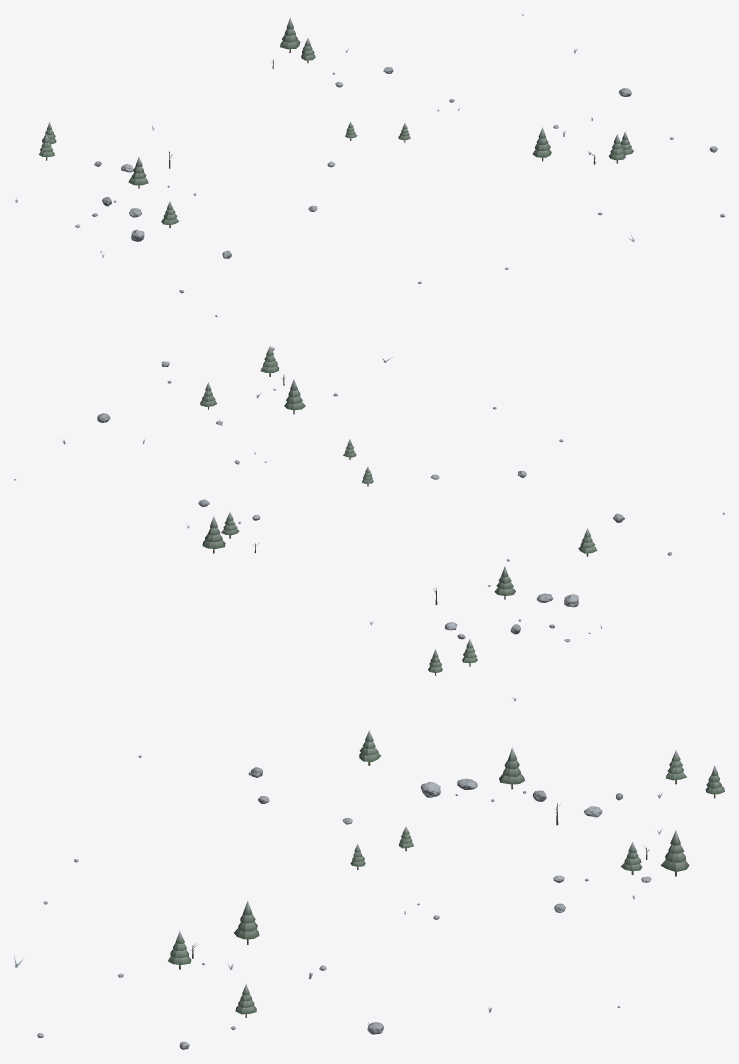
File: frost_land_scatter_c12_12.glb
The picture shows the model from 3 angles, top to bottom: view 1: azimuth 30°, elevation 25°; view 2: azimuth 150°, elevation 25°; view 3: azimuth 270°, elevation 25°; orthographic projection. The views are drawn at different scales.
Parts seen in each view (by area): view 1: frost_land_scatter_c12_12; view 2: frost_land_scatter_c12_12; view 3: frost_land_scatter_c12_12.
Boxes of the visible parts, left/top/right/bottom form: frost_land_scatter_c12_12: left=14, top=14, right=724, bottom=316; frost_land_scatter_c12_12: left=14, top=346, right=724, bottom=701; frost_land_scatter_c12_12: left=14, top=730, right=724, bottom=1049.
Size of the model in its own units: 244 by 50.27 by 221.
